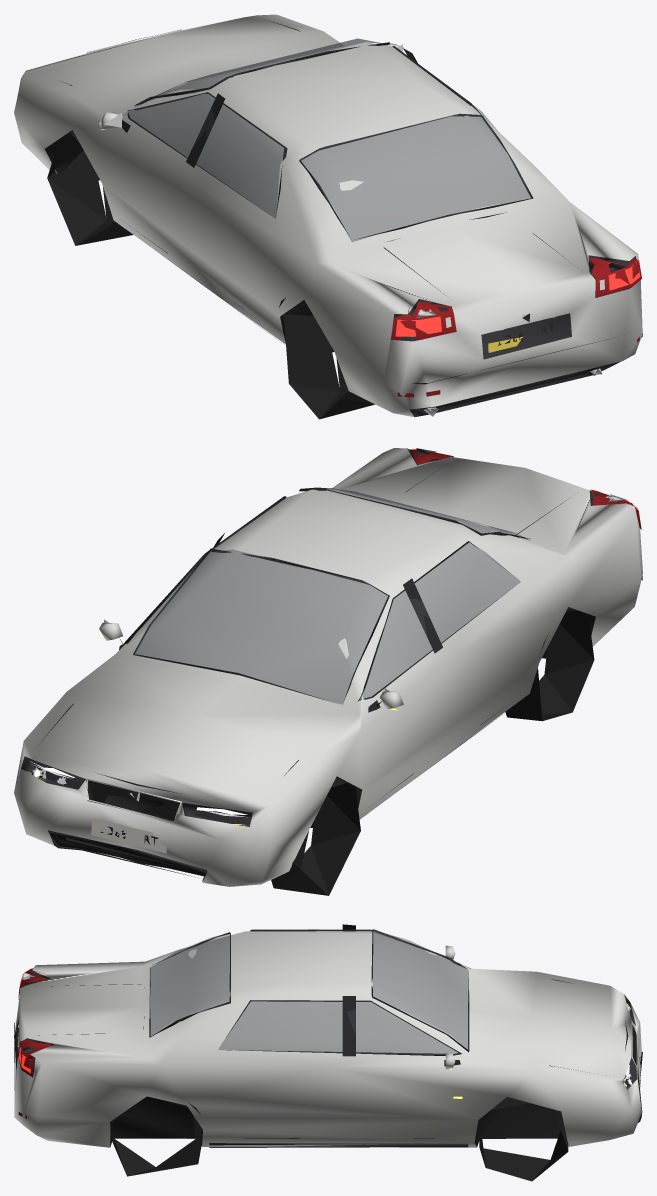
The model's file is civ_sedan_lod1.glb.
3 views of the same model, one above another, from view 1: azimuth 30°, elevation 25°; view 2: azimuth 150°, elevation 25°; view 3: azimuth 270°, elevation 25° (orthographic). The views are drawn at different scales.
Visible parts, largest first — view 1: civ_sedan.001; view 2: civ_sedan.001; view 3: civ_sedan.001.
Part boxes in pixels (bbox=[...]): civ_sedan.001: bbox=[14, 14, 642, 419]; civ_sedan.001: bbox=[14, 448, 642, 895]; civ_sedan.001: bbox=[14, 924, 642, 1181].
Bounding box in the file's own units: 2.08 × 1.51 × 4.8.
